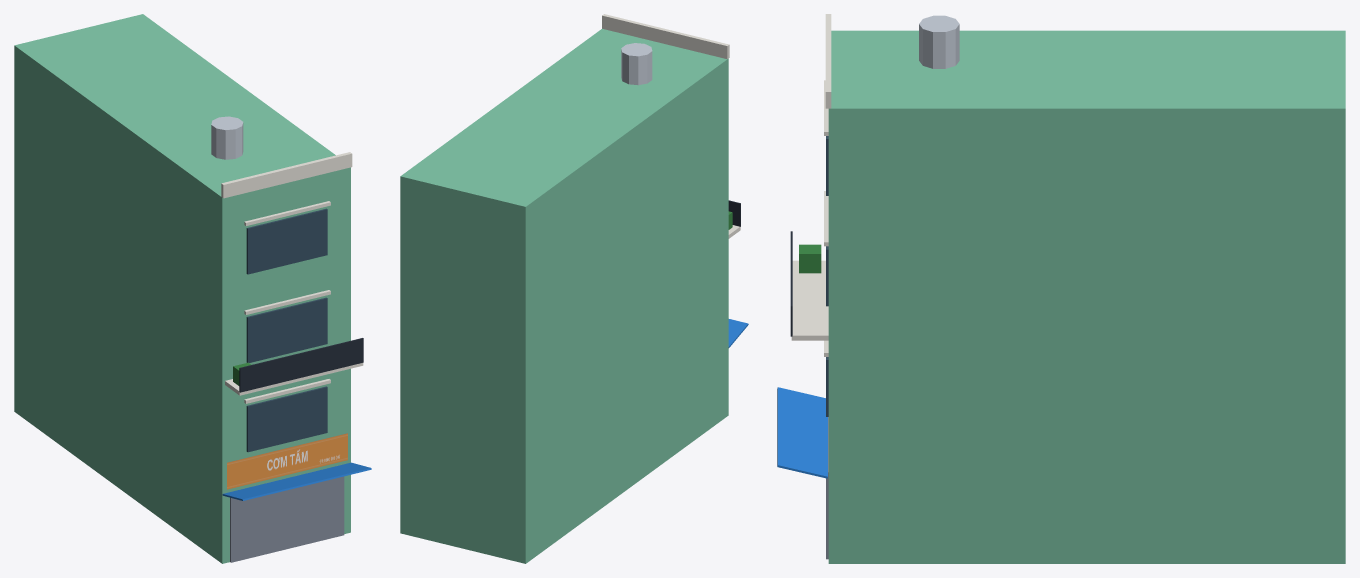
Rendered from shophouse_d.glb.
3 renders of one model, left to right at view 1: azimuth 30°, elevation 25°; view 2: azimuth 150°, elevation 25°; view 3: azimuth 270°, elevation 25°, orthographic. The views are drawn at different scales.
Visible parts, largest first — view 1: shophouse; view 2: shophouse; view 3: shophouse.
Part boxes in pixels (bbox=[...]): shophouse: bbox=[14, 14, 371, 563]; shophouse: bbox=[400, 14, 748, 563]; shophouse: bbox=[777, 14, 1345, 563].
Size of the model in its own units: 5 by 14.7 by 15.39.
9 materials, 1 textured.
